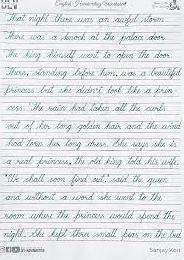text: (0, 227, 182, 244), (3, 154, 180, 171), (3, 136, 178, 153), (1, 28, 166, 46), (1, 64, 184, 80), (4, 171, 170, 188), (1, 48, 174, 64), (3, 12, 166, 28), (1, 84, 174, 99), (3, 120, 182, 134), (3, 100, 168, 115), (0, 210, 177, 223), (3, 190, 164, 203), (52, 0, 127, 10), (148, 246, 182, 255), (0, 0, 21, 11), (18, 246, 46, 254)
